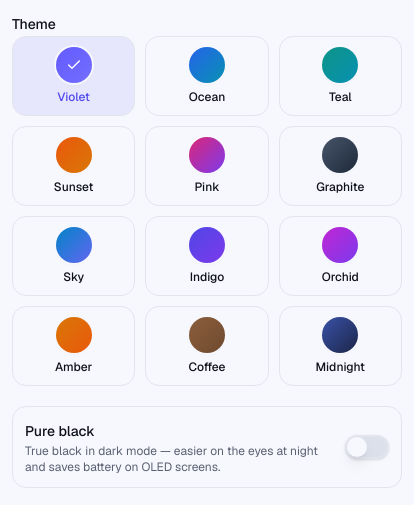
Scenario: ThemeSettings › choosing a colour applies it to the page at once and remembers it on this device
Click the radio button labelled "Ocean" at (207, 76), box [145,36,269,116]
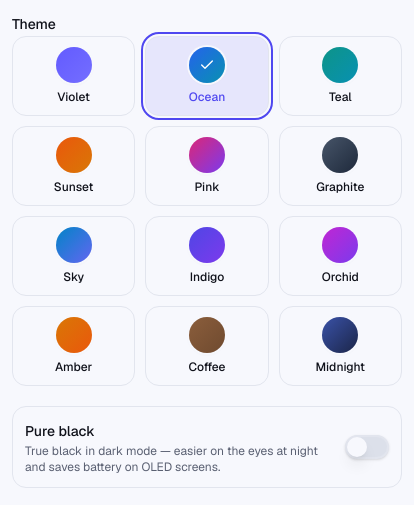
Now the radio button labelled "Ocean" is checked, box [145,36,269,116]
Now the radio button labelled "Violet" is not checked, box [12,36,135,116]
